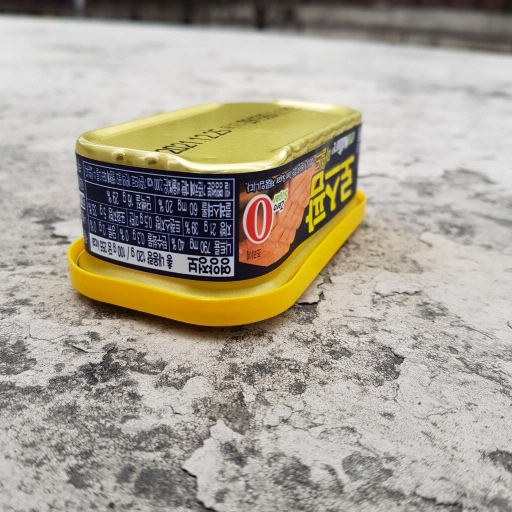Metal_2: (59, 99, 372, 336)
